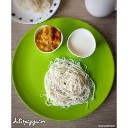idiyappam: (45, 59, 92, 106)
